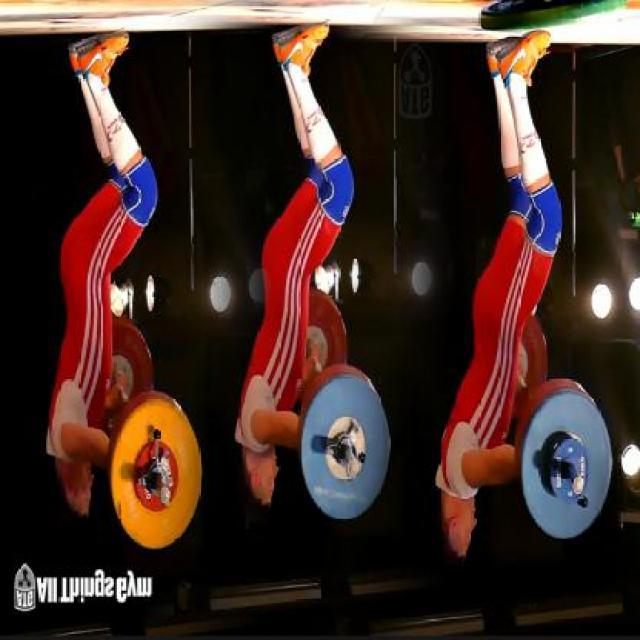Barbell: (344, 454, 359, 484), (157, 484, 174, 510), (570, 473, 586, 496)
